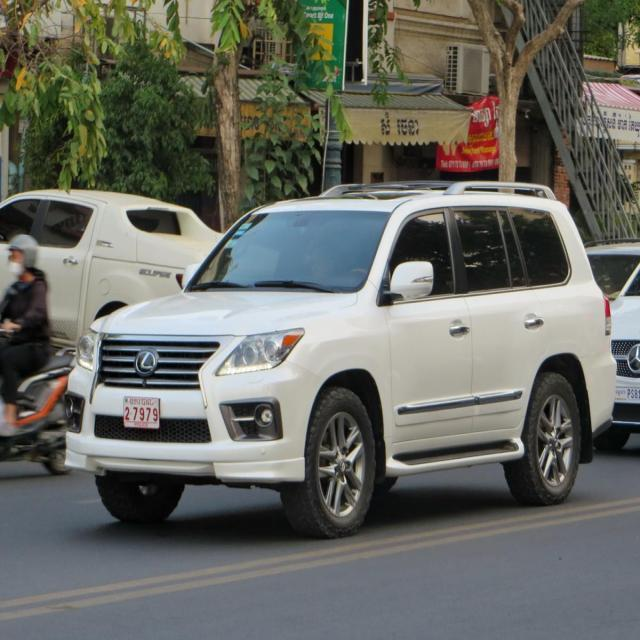Police: (130, 397, 154, 406)
